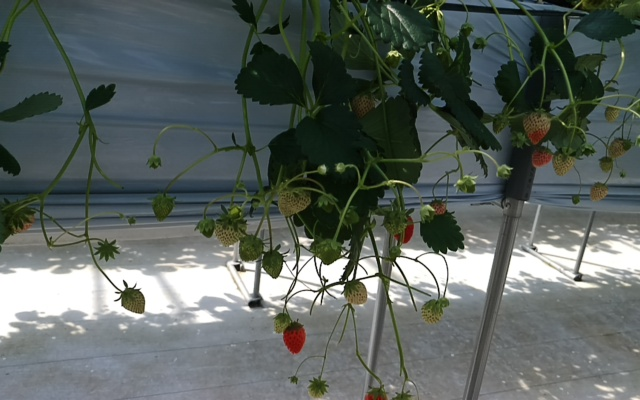GreenStrawberry: (215, 209, 247, 248), (277, 184, 312, 218), (522, 107, 552, 146), (350, 90, 379, 123), (551, 145, 577, 179), (237, 235, 265, 264), (419, 295, 445, 326), (119, 286, 146, 315), (315, 237, 342, 265), (380, 209, 407, 236), (343, 278, 368, 306), (262, 250, 285, 279), (152, 195, 174, 224), (607, 136, 632, 159), (530, 146, 555, 168), (588, 180, 608, 204), (491, 111, 510, 136), (306, 378, 327, 400), (195, 217, 215, 240), (273, 312, 290, 334), (603, 104, 620, 124), (599, 156, 613, 173)
MatureStrawberry: (390, 208, 415, 246), (283, 322, 307, 356)
